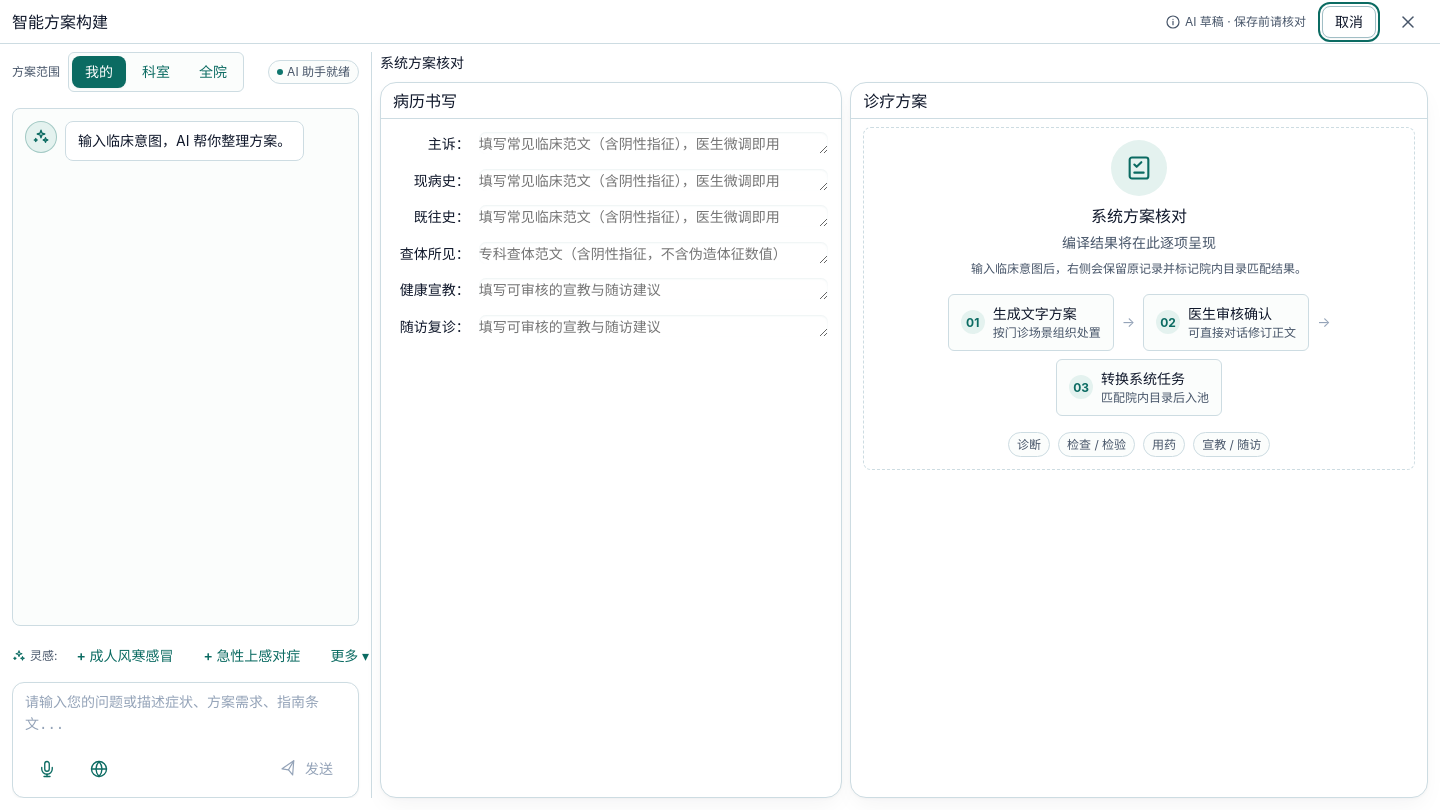
Test case: AiPlanTemplateDraftModal › opens the clinical knowledge medication insert from a plan medication row
Type "测试方案" into the text box with placeholder "请输入您的问题或描述症状、方案需求、指南条文...".
click(186, 715); type("测试方案")  # box [25,691,346,739]
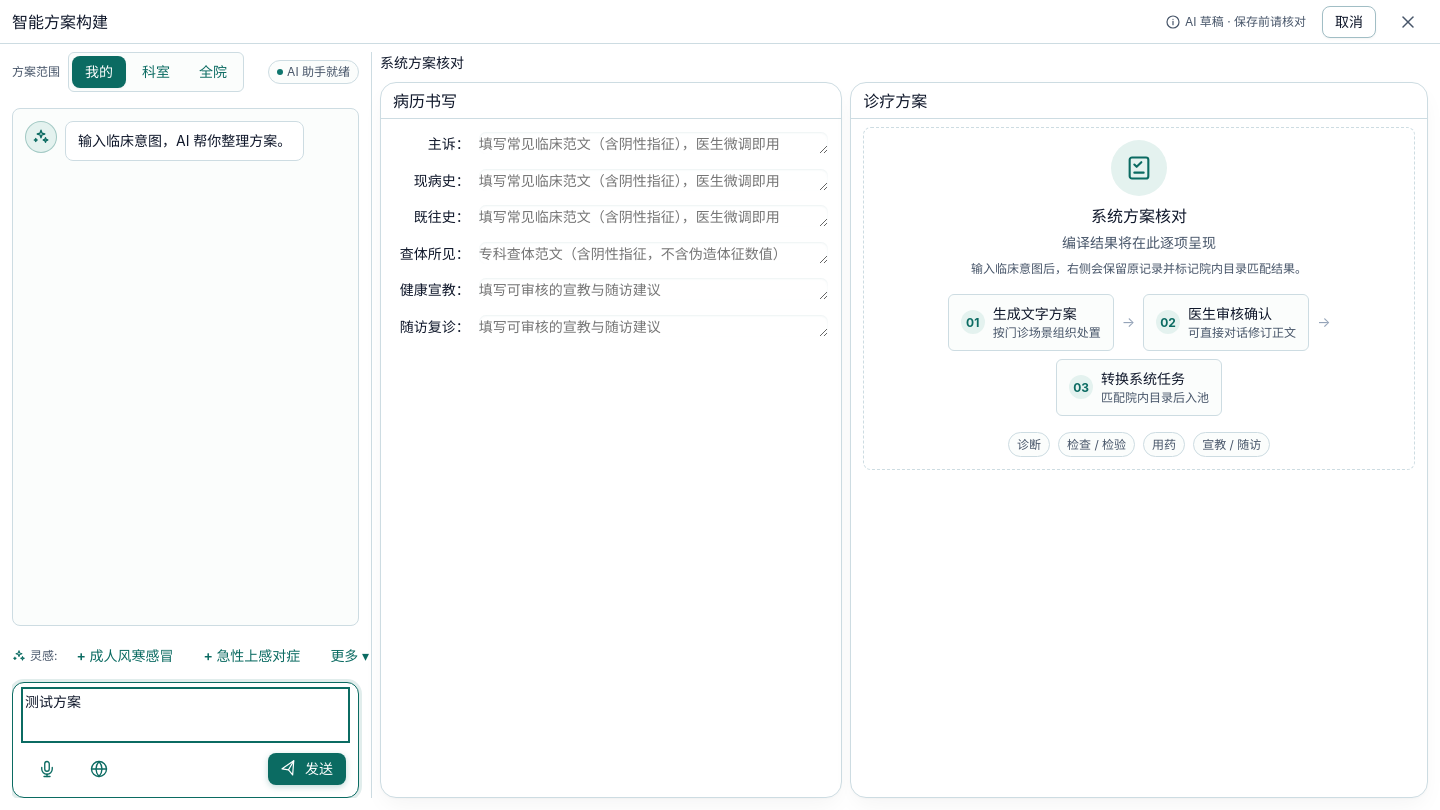
Click the button "发送".
click(307, 769)  # box [268,753,346,785]
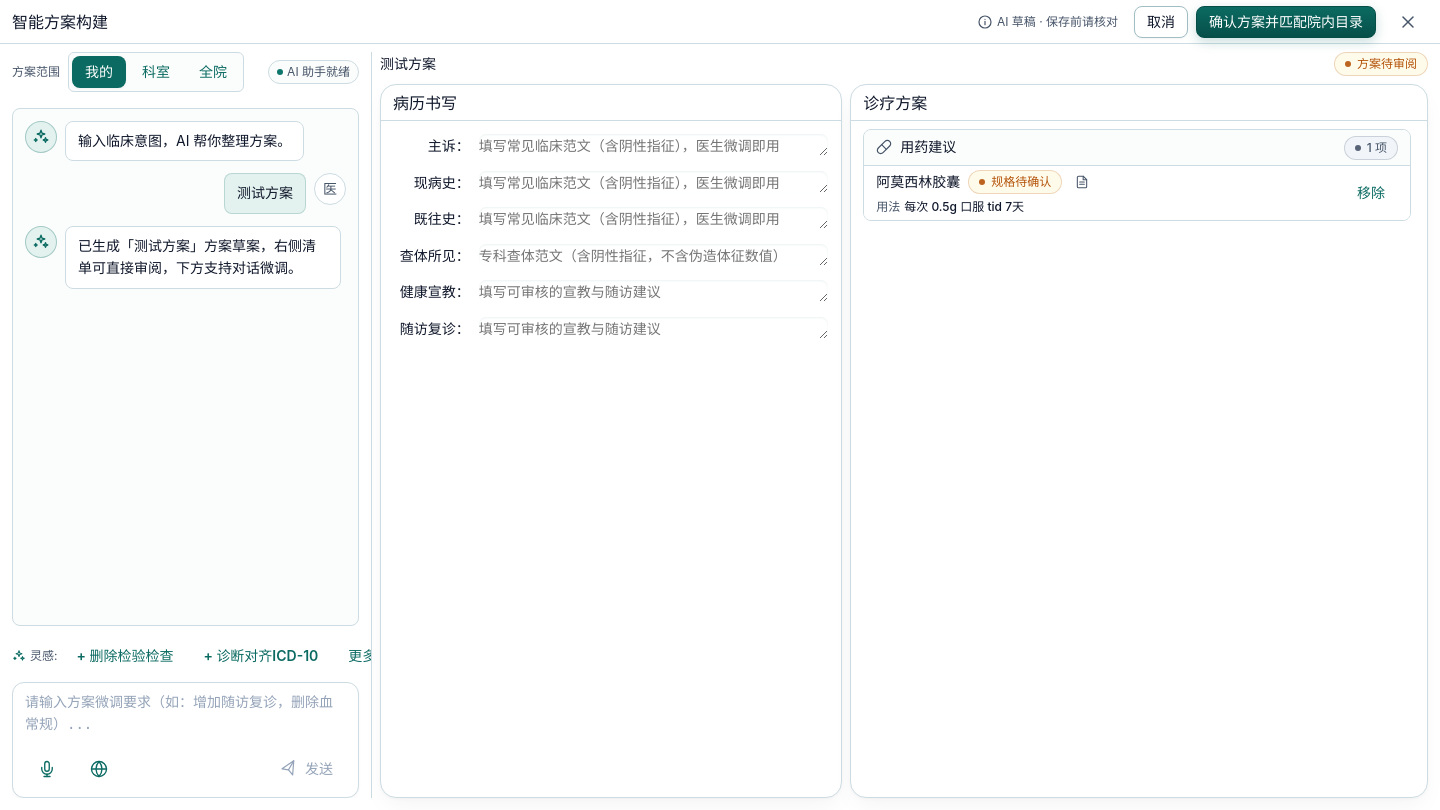
Click the button named "说明书".
click(1082, 182)  # box [1070,170,1094,194]
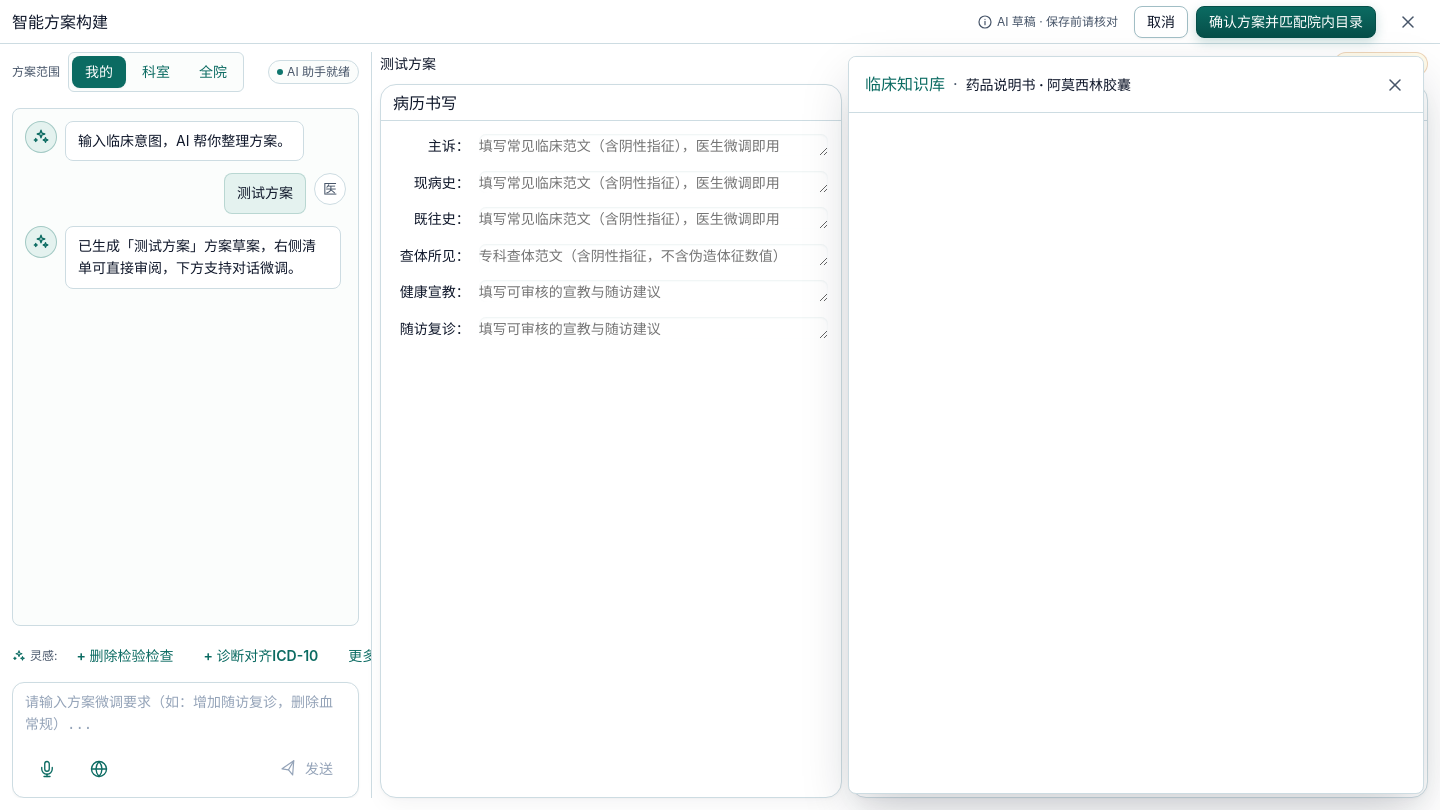
Expected: the heading "药品说明书 · 阿莫西林胶囊" is shown, [966,74,1131,95]
